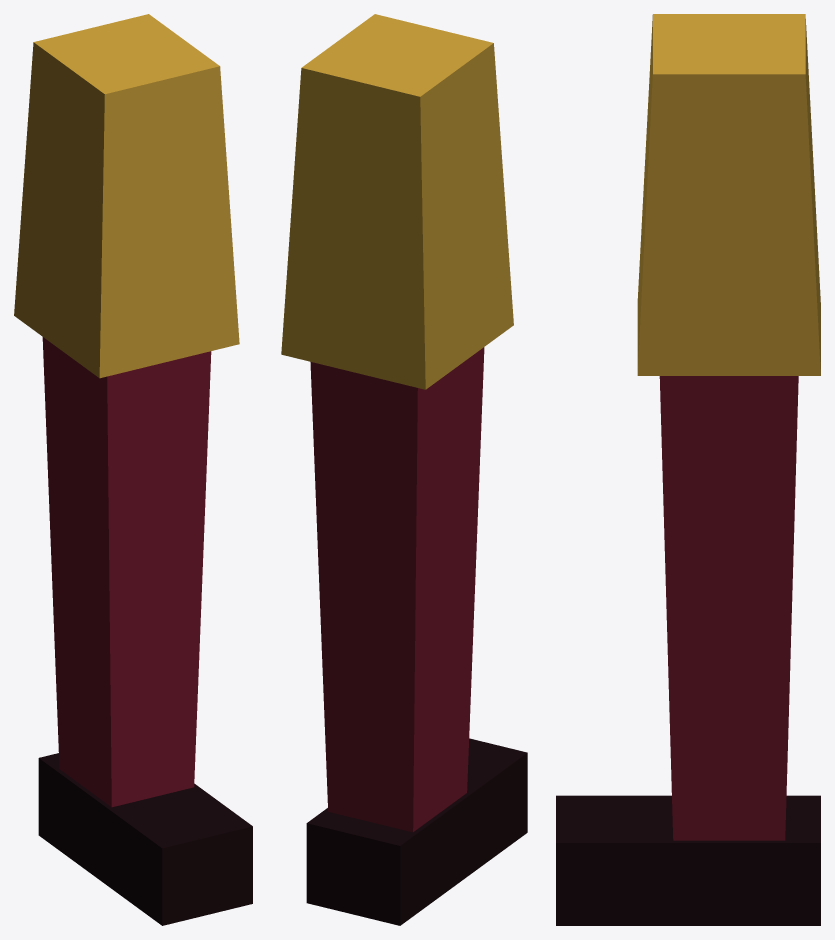
File: leg_k28.glb
3 renders of one model, left to right at view 1: azimuth 30°, elevation 25°; view 2: azimuth 150°, elevation 25°; view 3: azimuth 270°, elevation 25°, orthographic. The views are drawn at different scales.
Visible parts, largest first — view 1: leg_kit; view 2: leg_kit; view 3: leg_kit.
Boxes of the visible parts, <box> form: leg_kit: <box>14,14,252,925</box>; leg_kit: <box>281,14,527,925</box>; leg_kit: <box>556,14,820,925</box>.
Bounding box in the file's own units: 0.17 × 0.93 × 0.26.
